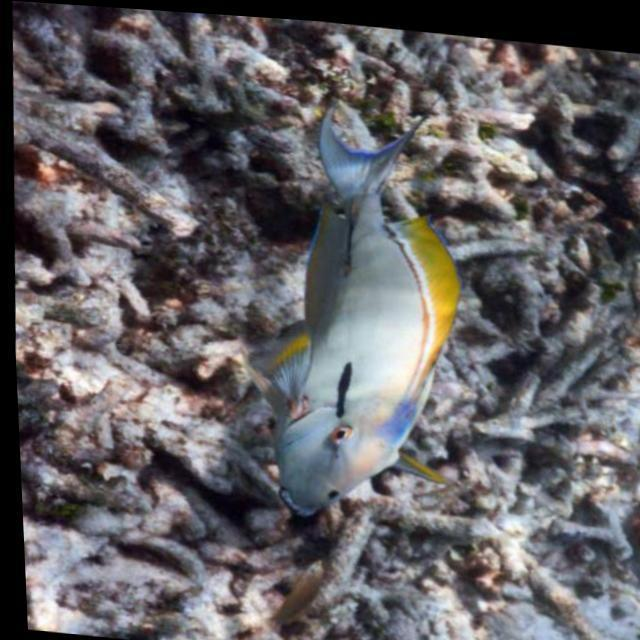Dead Coral: (0, 0, 296, 640), (404, 24, 640, 640)
